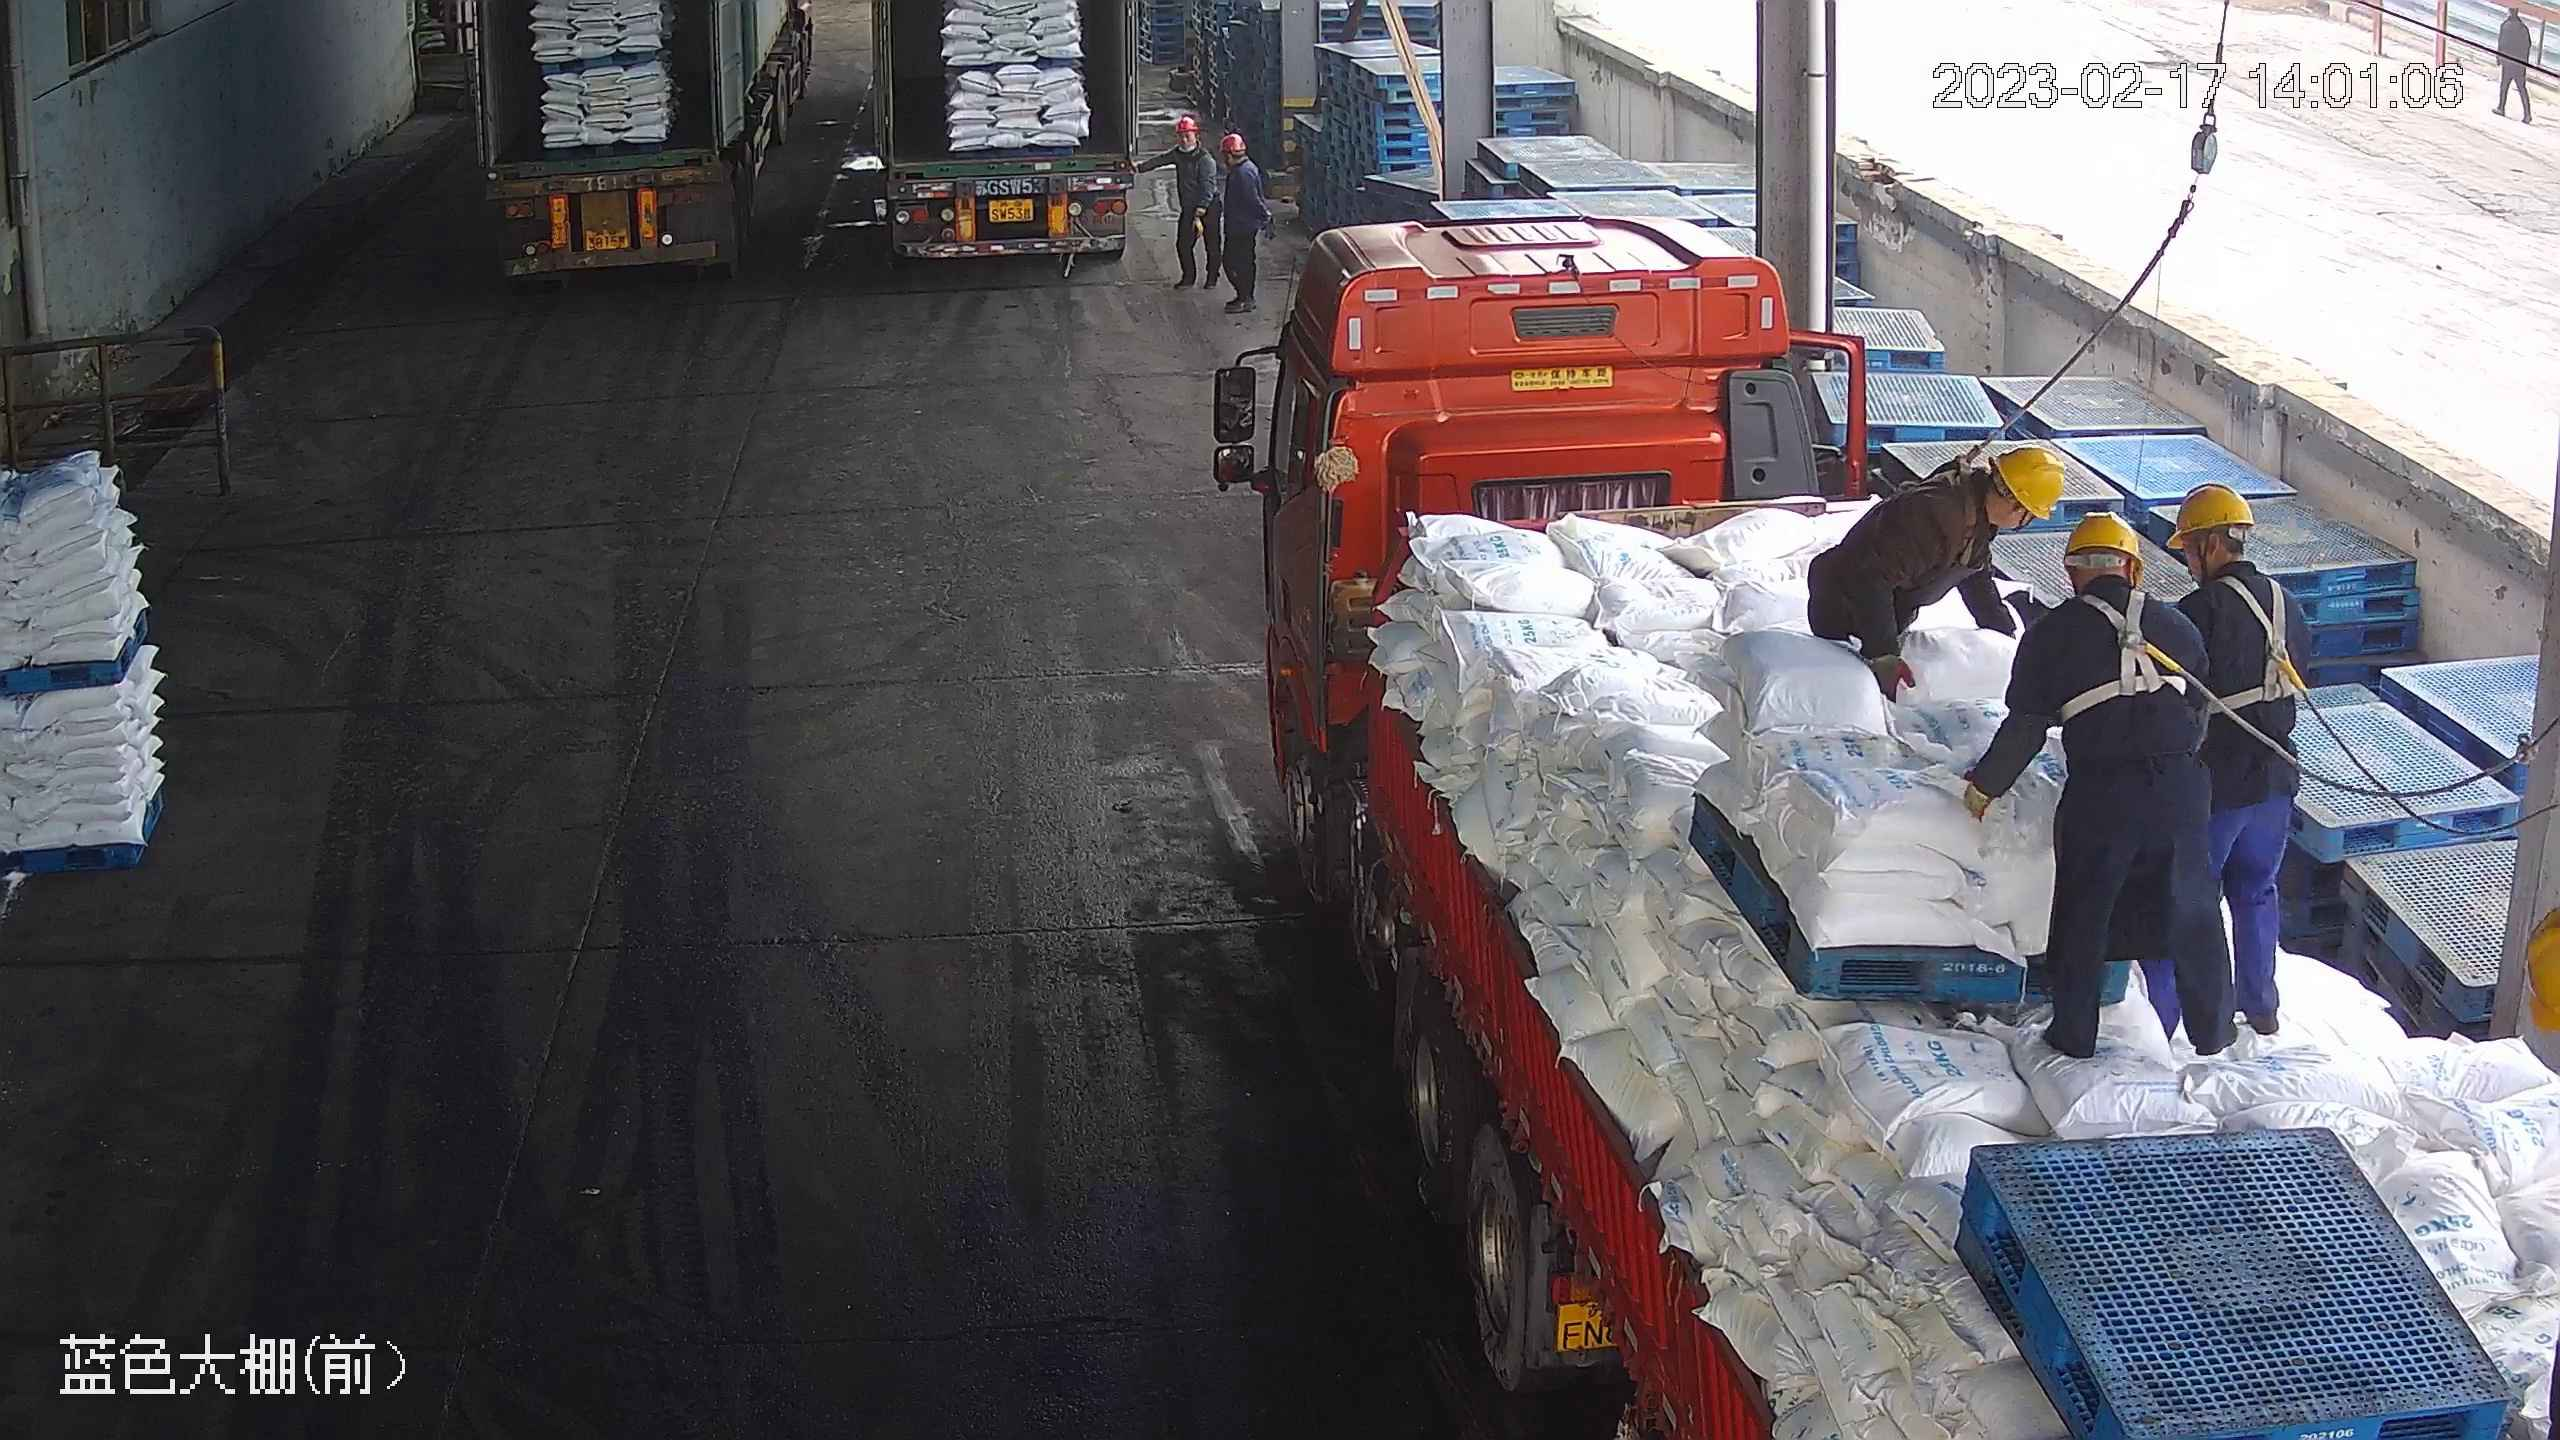belt: (2057, 583, 2182, 721), (2200, 568, 2313, 705), (1910, 454, 1991, 566)
head: (2022, 510, 2193, 662), (2161, 483, 2305, 644), (1919, 441, 2063, 558), (1213, 132, 1263, 193), (1164, 114, 1208, 180)
helmet: (2164, 481, 2255, 548), (1992, 443, 2065, 526), (2059, 510, 2142, 574), (1174, 113, 1201, 133), (1217, 133, 1245, 153)
people: (1960, 507, 2255, 1061), (2152, 485, 2319, 1034), (1800, 437, 2063, 716), (1212, 130, 1268, 313), (1160, 115, 1215, 292)
truck: (1207, 201, 2560, 1440), (474, 1, 821, 283), (857, 1, 1148, 279)
